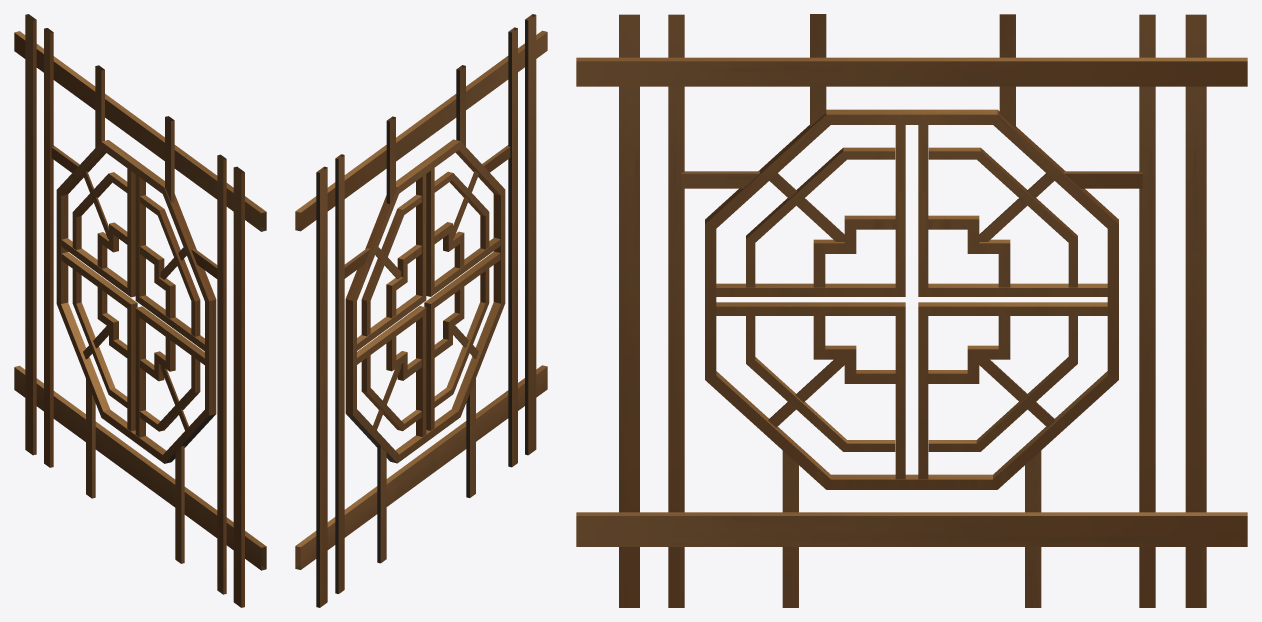
Rendered from SK_House_Window_001.FBX.
The picture shows the model from 3 angles, left to right: view 1: azimuth 30°, elevation 25°; view 2: azimuth 150°, elevation 25°; view 3: azimuth 270°, elevation 25°; orthographic projection. The views are drawn at different scales.
Visible parts, largest first — view 1: SK_House_Window_001; view 2: SK_House_Window_001; view 3: SK_House_Window_001.
Part boxes in pixels (box(x1,y1,x2,y2)): SK_House_Window_001: box(14, 14, 266, 607); SK_House_Window_001: box(295, 14, 547, 607); SK_House_Window_001: box(576, 14, 1247, 607).
Bounding box in the file's own units: 3.51 × 142 × 146.
